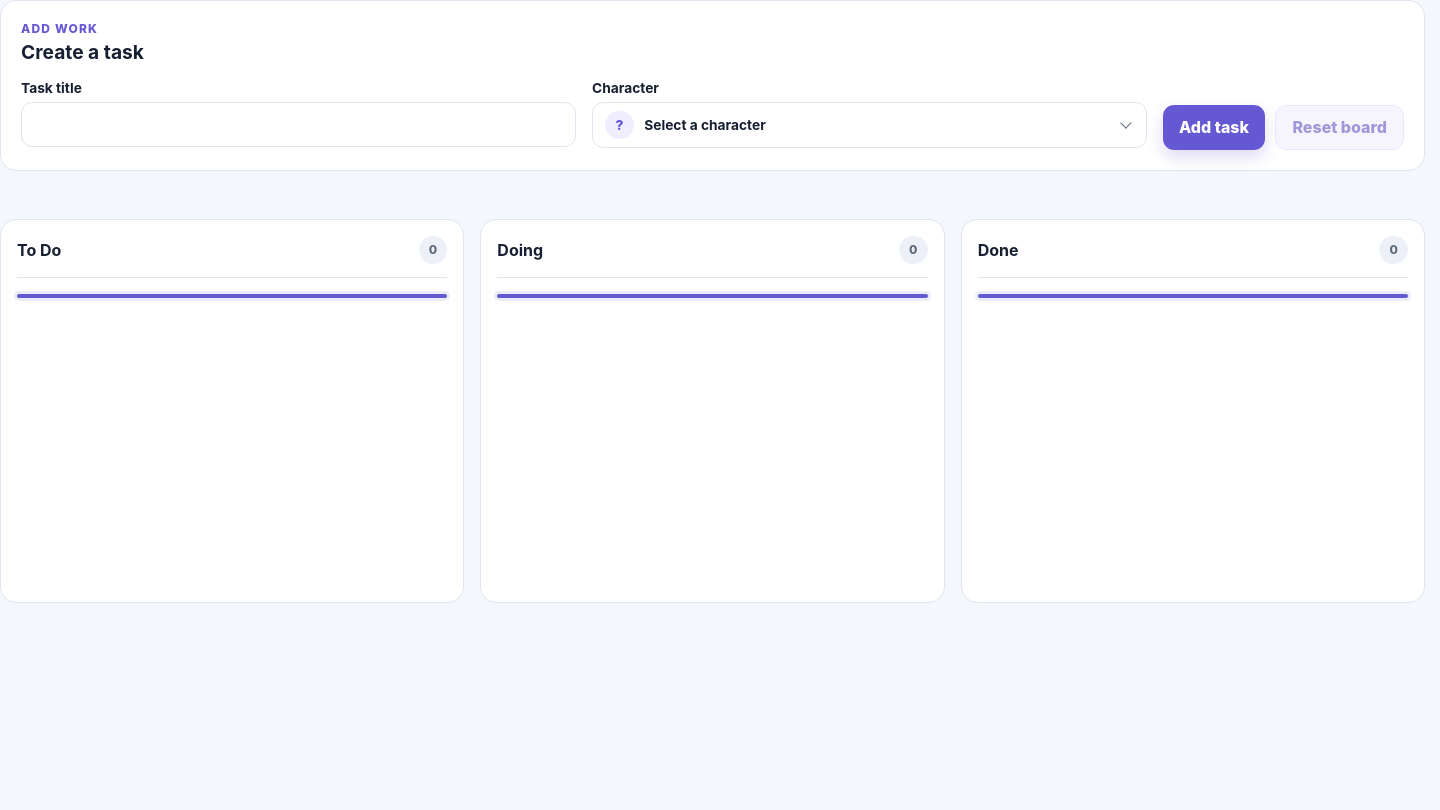
Test: KanbanBoard › creates assigned tasks in To Do
Type "Prepare client notes" into the field labelled "Task title".
click(298, 125); type("Prepare client notes")  # box [21,102,576,147]
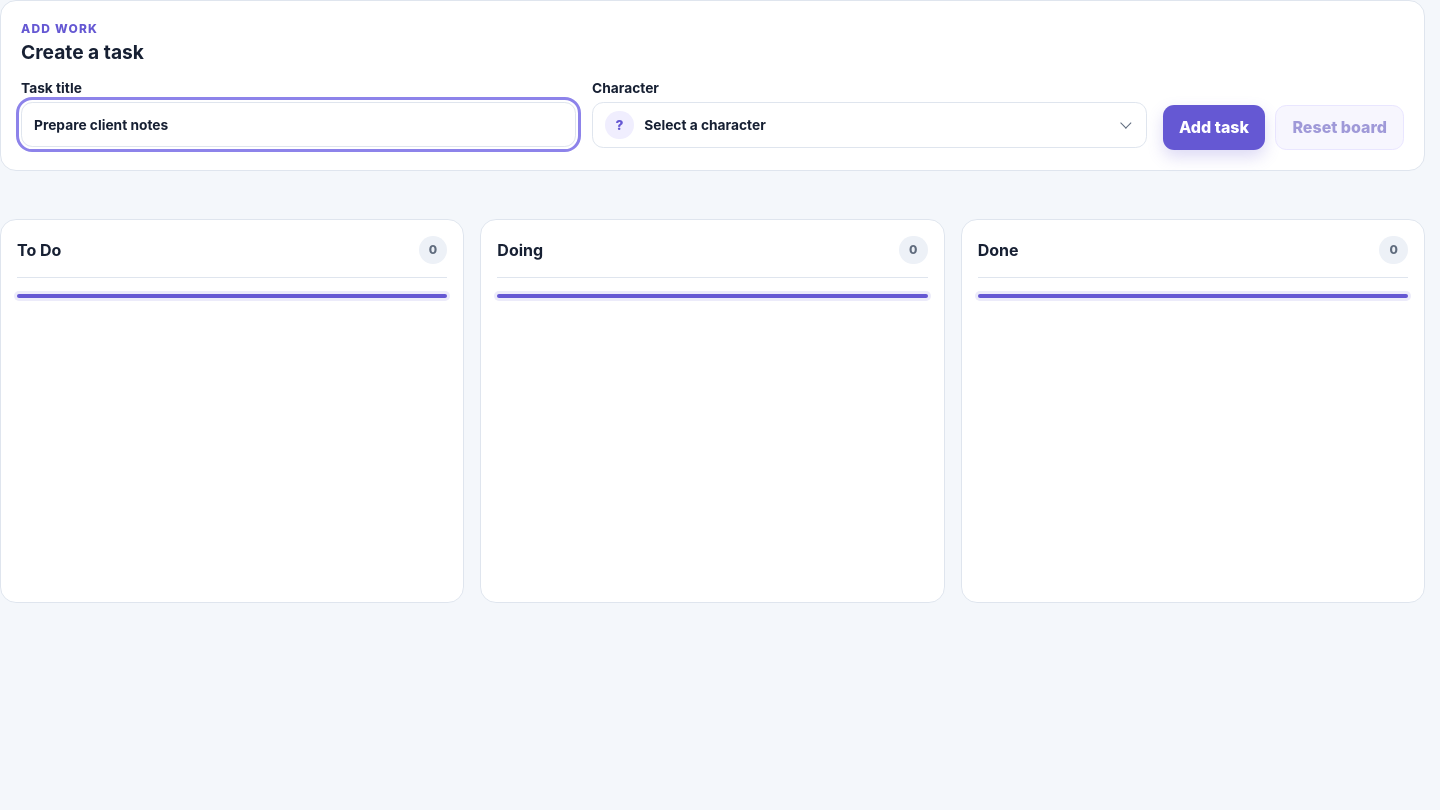
Click the dropdown labelled "character".
click(705, 125)  # box [592,102,1147,148]
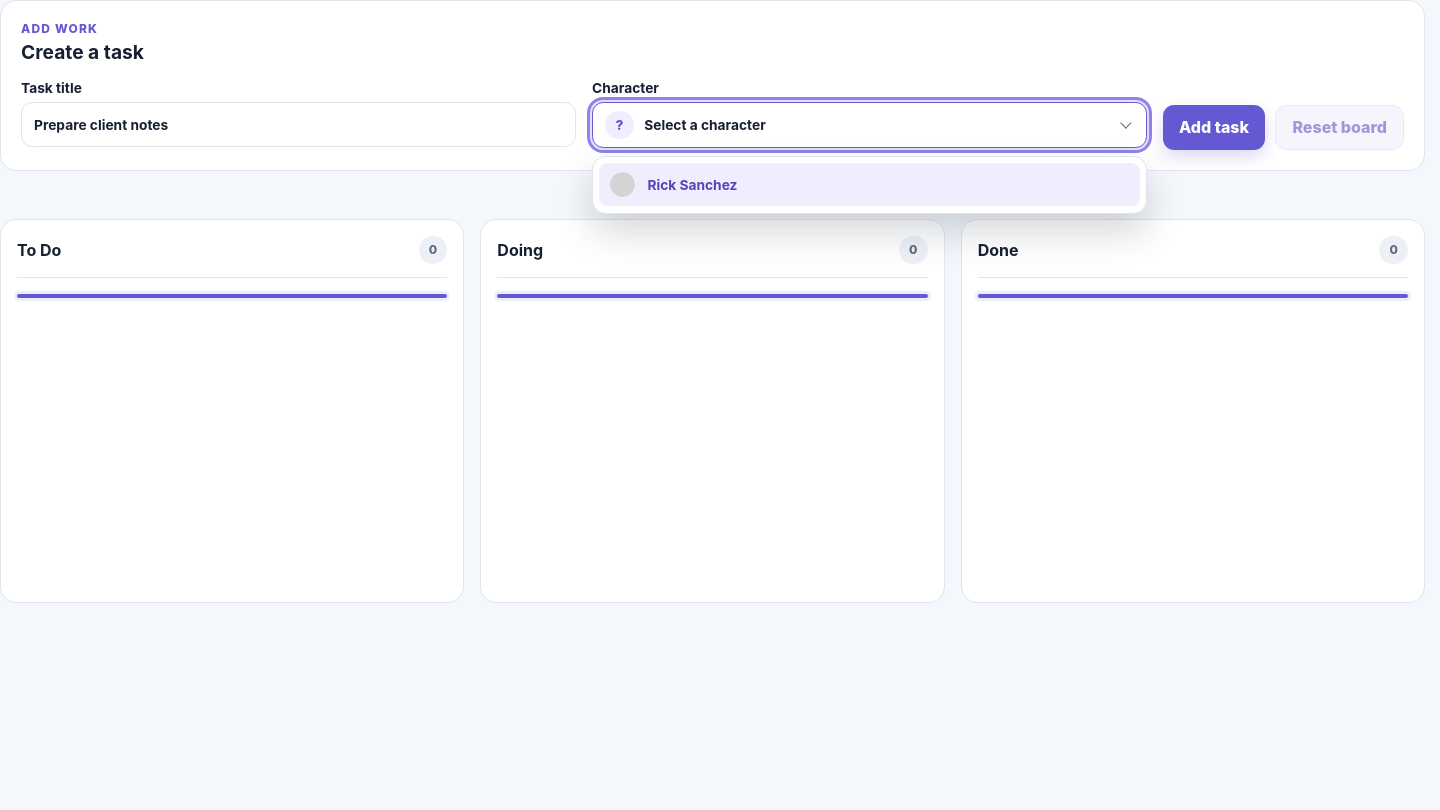
Click the option "Rick Sanchez".
click(692, 185)  # box [599,163,1140,206]
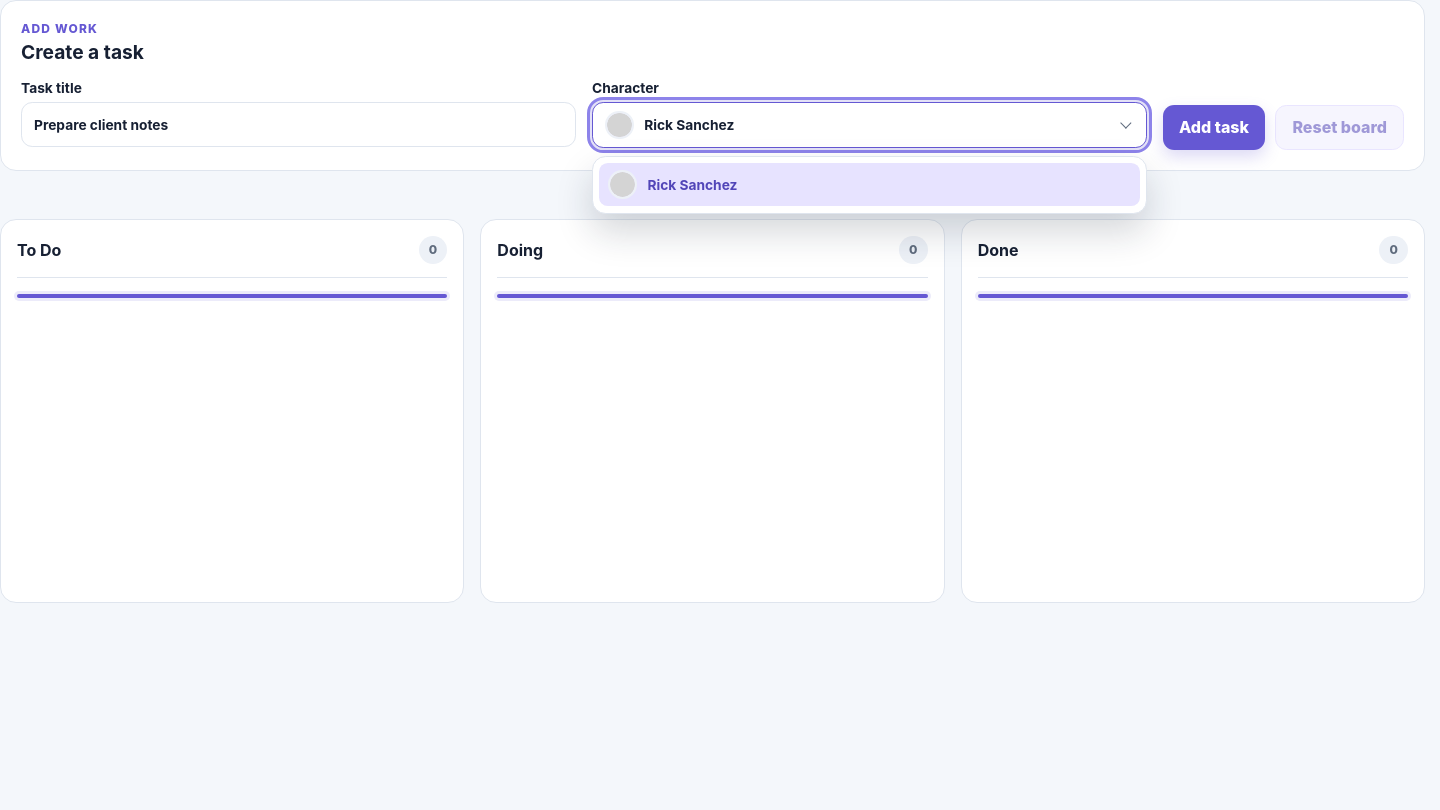
Click the button "Add task".
click(1214, 127)  # box [1163,105,1265,150]
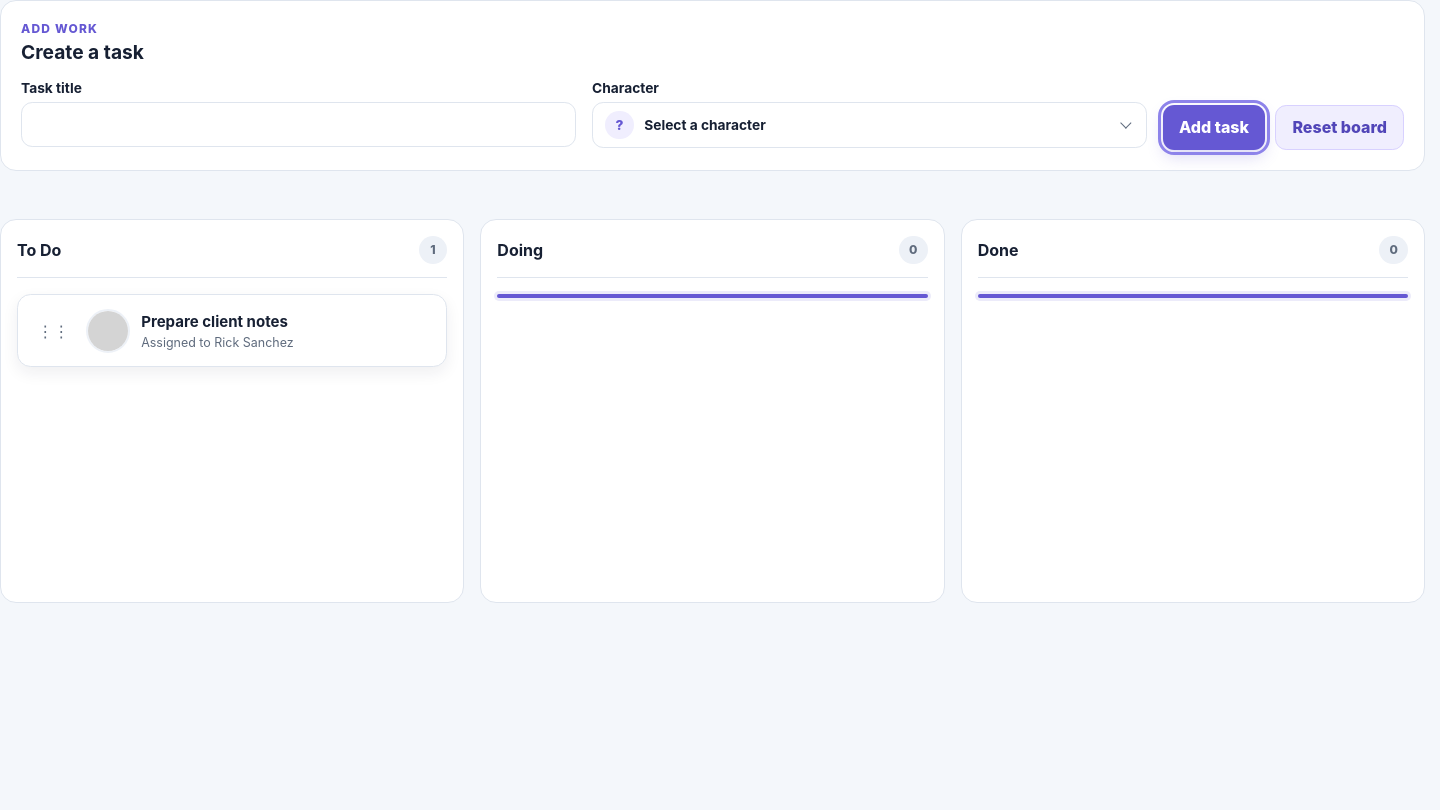
Expected: the heading "Prepare client notes" is shown, [141,312,288,331]
Expected: the text "Assigned to Rick Sanchez" is shown, [141,335,294,350]
